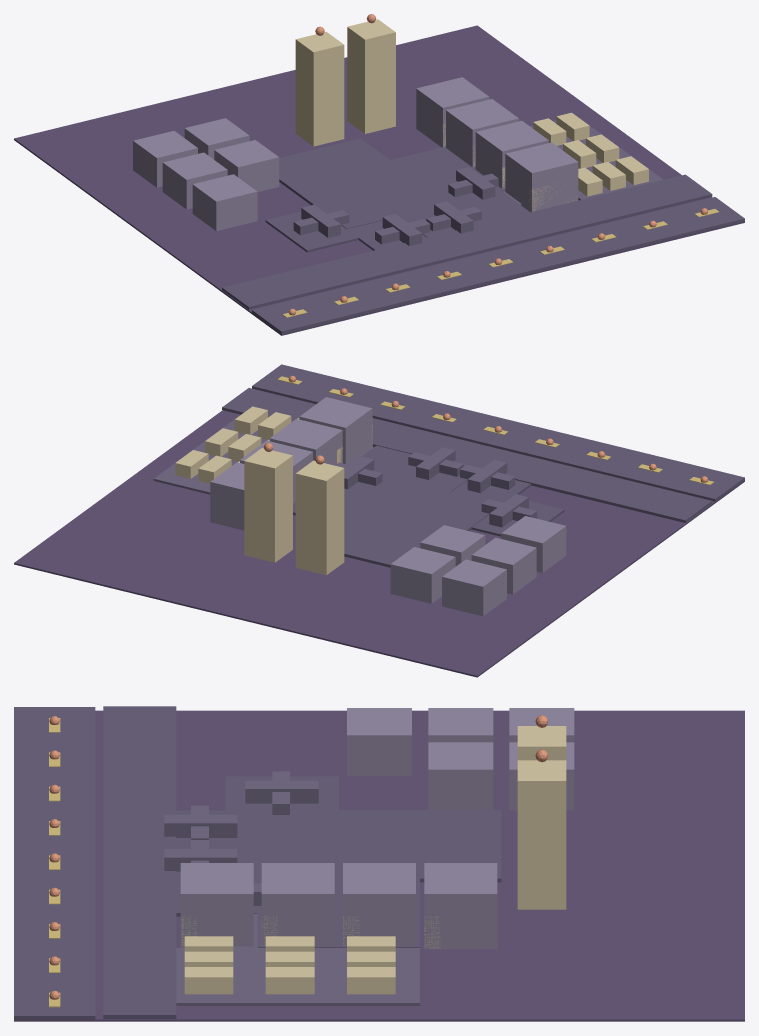
Rendered from stage_25.glb.
3 renders of one model, top to bottom at view 1: azimuth 30°, elevation 25°; view 2: azimuth 150°, elevation 25°; view 3: azimuth 270°, elevation 25°, orthographic. The views are drawn at different scales.
Visible parts, largest first — view 1: geometry_0; view 2: geometry_0; view 3: geometry_0.
Boxes of the visible parts, box(x1,y1,x2,y2) form: geometry_0: box(14, 14, 744, 335); geometry_0: box(14, 364, 744, 677); geometry_0: box(14, 706, 744, 1021).
Bounding box in the file's own units: 9 × 2.06 × 9.
